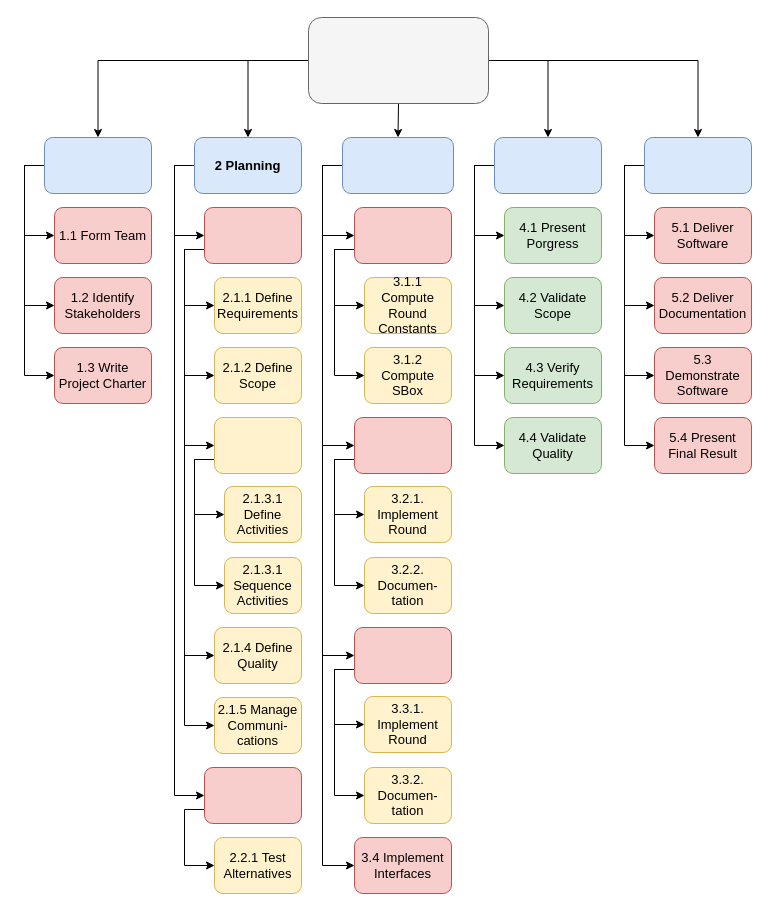
This 769x911 diagram has some shape labels left out. Each missing label, with the centre of its shape:
"1 Initiation" belongs at point 98,165.
"2.1 Create Project Plan" belongs at point 253,235.
"2.1.3 Create Schedule" belongs at point 258,445.
"2.2 Define Software Stack" belongs at point 253,795.
"3 Execution" belongs at point 398,165.
"3.1 Implement Key Expansion" belongs at point 403,235.
"3.2 Implement Encryption" belongs at point 403,445.
"3.3 Implement Decryption" belongs at point 403,655.
"4 Monitoring" belongs at point 548,165.
"5 Closing" belongs at point 698,165.
"Implementing the Advanced Encryption Standard" belongs at point 398,60.
